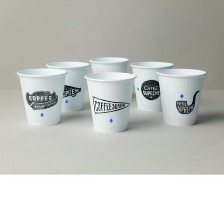paper_cup: (81, 69, 138, 135), (152, 64, 209, 128), (13, 64, 70, 128), (43, 57, 91, 116), (126, 58, 176, 114), (87, 52, 131, 92)
